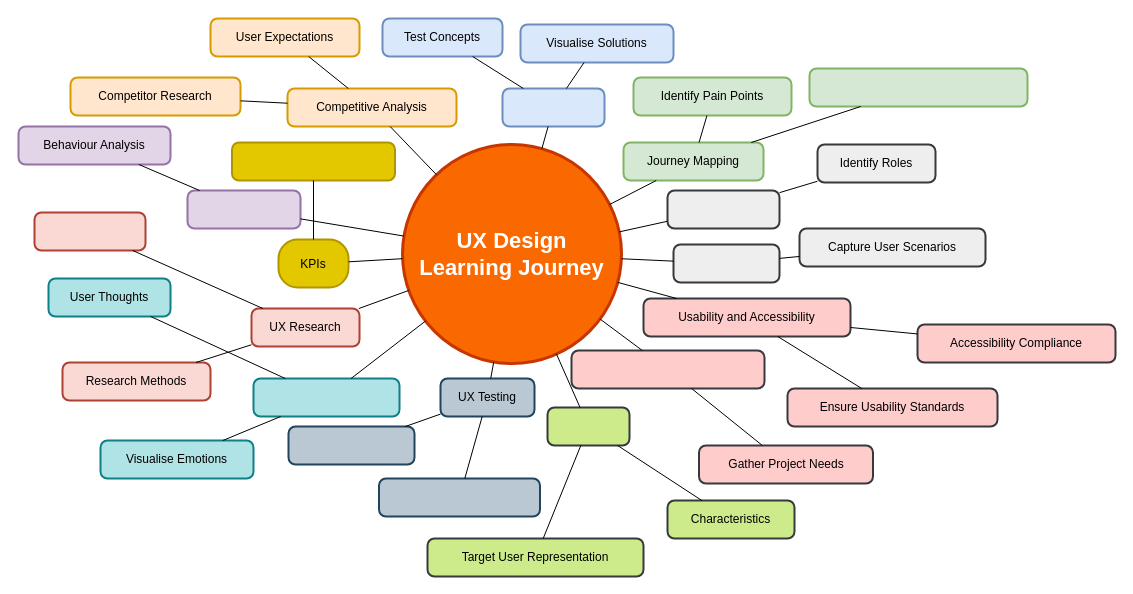
Some shapes in this 1133 by 594 pixel diagram are drawn without their labels. Here are the shapes that lost their labels. From the top down, the box of each, then its label:
(501, 87, 605, 127): Prototyping
(808, 67, 1028, 107): Improvement Opportunities
(230, 141, 396, 181): Measure UX Success
(186, 189, 301, 229): User Analysis
(666, 189, 780, 229): Stakeholders
(33, 211, 146, 251): User Insights
(672, 243, 780, 283): User Stories
(570, 349, 765, 389): Capturing Requirements
(252, 377, 400, 417): Empathy Mapping
(287, 425, 415, 465): User Feedback
(546, 406, 630, 446): Personas
(378, 477, 540, 517): Design Refinements
